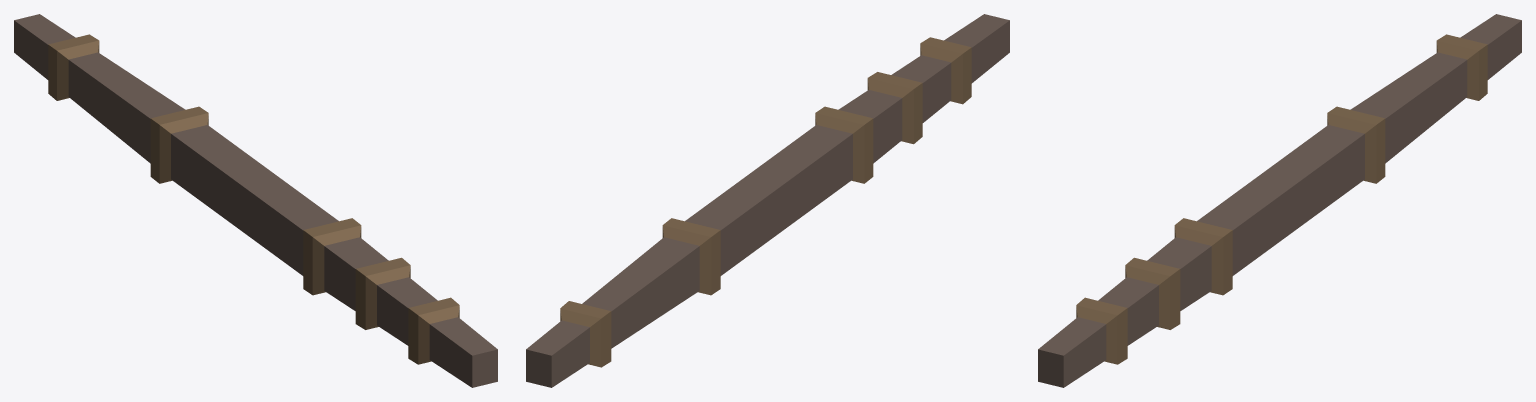
File: Spar.fbx
The picture shows the model from 3 angles, left to right: view 1: azimuth 30°, elevation 25°; view 2: azimuth 150°, elevation 25°; view 3: azimuth 330°, elevation 25°; orthographic projection.
Visible parts, largest first — view 1: Spar; view 2: Spar; view 3: Spar.
Part boxes in pixels (x1,y1,x2,y2): Spar: (14,14,497,387); Spar: (526,14,1009,387); Spar: (1038,14,1521,387).
Size of the model in its own units: 0.1178 by 1.9 by 0.135.
